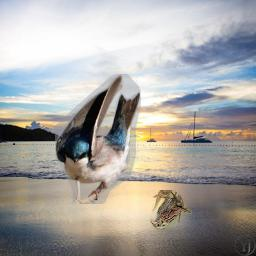Sparrow: (150, 190, 192, 230)
Swallow: (55, 74, 141, 204)
